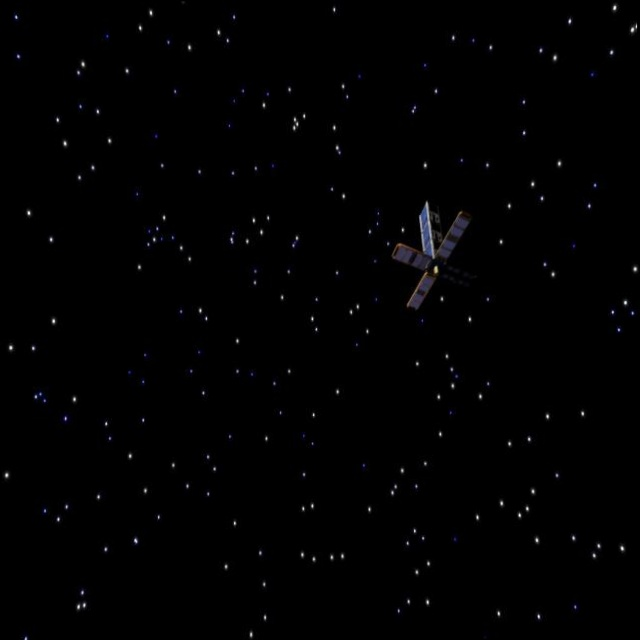satellite: (385, 194, 475, 312)
